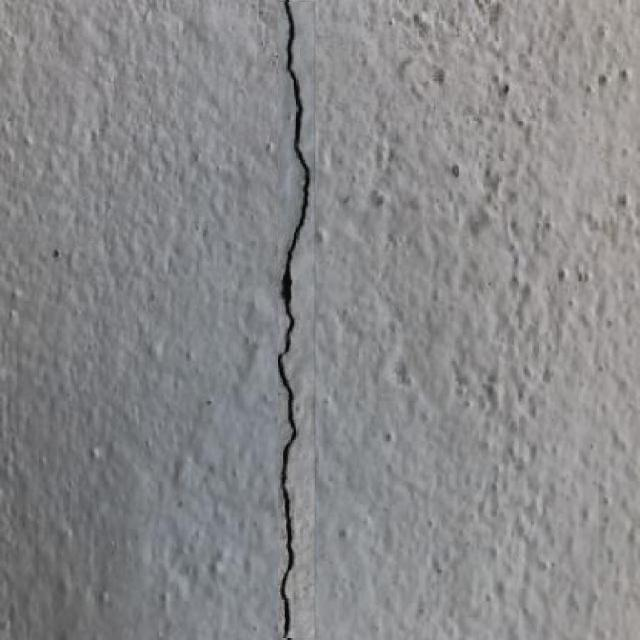vertical crack: (279, 2, 313, 638)
